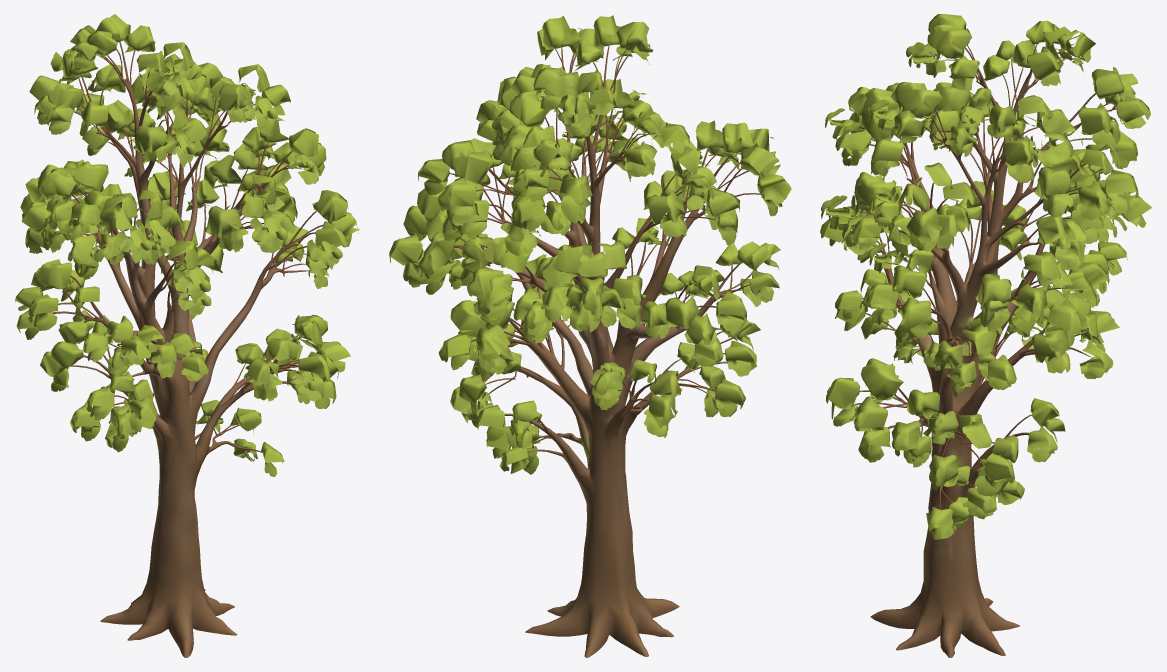
File: stylized tree 3d model (6).glb
3 views of the same model, side by side, from view 1: azimuth 30°, elevation 25°; view 2: azimuth 150°, elevation 25°; view 3: azimuth 270°, elevation 25° (orthographic). The views are drawn at different scales.
Parts seen in each view (by area): view 1: tripo_52477d72_6209_4372_ab34_7efe827027cb; view 2: tripo_52477d72_6209_4372_ab34_7efe827027cb; view 3: tripo_52477d72_6209_4372_ab34_7efe827027cb.
Part boxes in pixels (bbox=[...]): tripo_52477d72_6209_4372_ab34_7efe827027cb: bbox=[14, 14, 359, 657]; tripo_52477d72_6209_4372_ab34_7efe827027cb: bbox=[389, 15, 791, 657]; tripo_52477d72_6209_4372_ab34_7efe827027cb: bbox=[820, 14, 1151, 657].
Bounding box in the file's own units: 0.5454 × 0.9995 × 0.4966.
Materials: 1 (1 with a texture image).
